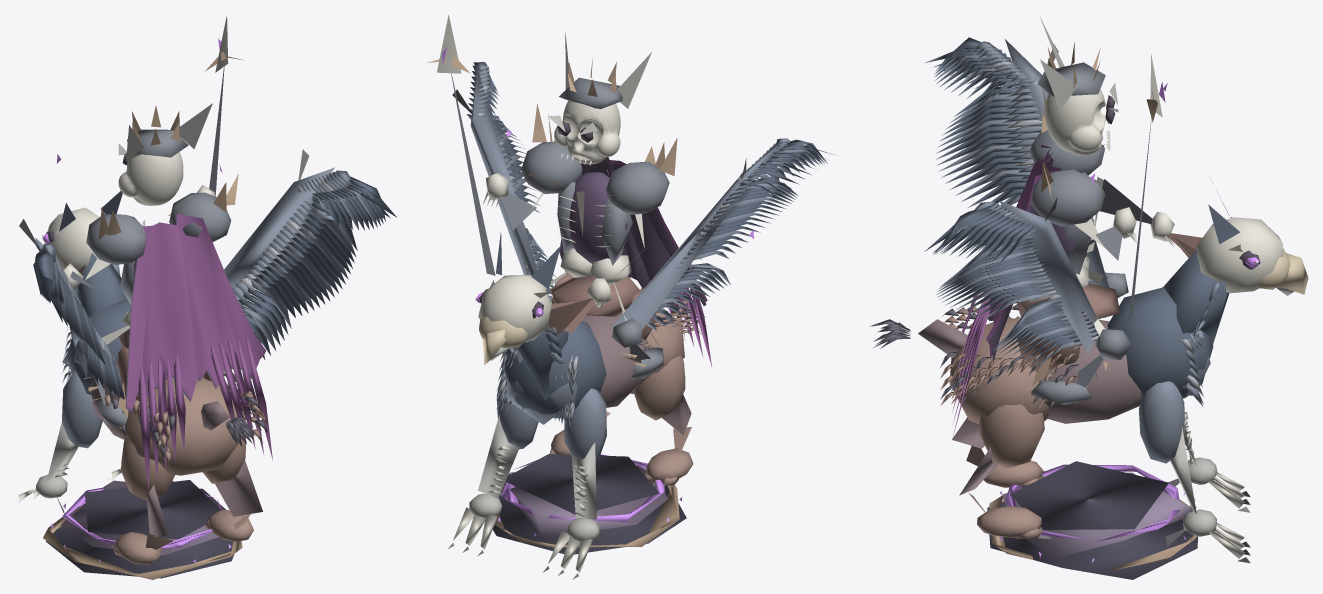
The model's file is cavalier_griffon.fbx.
The picture shows the model from 3 angles, left to right: view 1: azimuth 30°, elevation 25°; view 2: azimuth 150°, elevation 25°; view 3: azimuth 270°, elevation 25°; orthographic projection. The views are drawn at different scales.
Visible parts, largest first — view 1: RIDER_CAPE_DAMAGED_1, CHESS_PEDESTAL_CAP, GRIFFON_LION_HAUNCHES, CHESS_PEDESTAL_LOWER, WING_BONE_1, RIDER_SKULL_SCULPTED, RIDER_PAULDRON_-1, FORE_UPPER_-1, GRIFFON_HEAD_CRANIUM, RIDER_PAULDRON_1, HIND_THIGH_-1, GRIFFON_NECK_MAIN (+26 smaller); view 2: CHESS_PEDESTAL_CAP, GRIFFON_EAGLE_CHEST, WING_BONE_-1, GRIFFON_HEAD_CRANIUM, RIDER_CAPE_DAMAGED_0, RIDER_SKULL_SCULPTED, WING_BONE_1, CHESS_PEDESTAL_LOWER, RIDER_TUNIC, CHESS_PEDESTAL_BEVEL, GRIFFON_LION_TORSO, RIDER_PAULDRON_-1 (+29 smaller); view 3: CHESS_PEDESTAL_CAP, GRIFFON_EAGLE_CHEST, CHESS_PEDESTAL_LOWER, GRIFFON_LION_HAUNCHES, GRIFFON_HEAD_CRANIUM, GRIFFON_LION_TORSO, WING_BONE_1, GRIFFON_NECK_MAIN, HIND_THIGH_1, RIDER_SKULL_SCULPTED, RIDER_PAULDRON_1, FORE_UPPER_1 (+24 smaller).
Part boxes in pixels (box(x1,y1,x2,y2)): RIDER_CAPE_DAMAGED_1: box(126, 214, 266, 409); CHESS_PEDESTAL_CAP: box(85, 480, 220, 539); GRIFFON_LION_HAUNCHES: box(125, 378, 245, 475); CHESS_PEDESTAL_LOWER: box(46, 526, 234, 578); WING_BONE_1: box(224, 167, 334, 287); RIDER_SKULL_SCULPTED: box(118, 152, 183, 205); RIDER_PAULDRON_-1: box(86, 214, 146, 265); FORE_UPPER_-1: box(62, 371, 102, 448); GRIFFON_HEAD_CRANIUM: box(47, 207, 99, 270); RIDER_PAULDRON_1: box(169, 192, 231, 241); HIND_THIGH_-1: box(121, 438, 174, 500); GRIFFON_NECK_MAIN: box(78, 253, 128, 317); CHESS_PEDESTAL_CAP: box(505, 454, 659, 514); GRIFFON_EAGLE_CHEST: box(502, 321, 606, 418); WING_BONE_-1: box(612, 145, 778, 330); GRIFFON_HEAD_CRANIUM: box(478, 275, 551, 342); RIDER_CAPE_DAMAGED_0: box(559, 158, 706, 305); RIDER_SKULL_SCULPTED: box(554, 101, 620, 164); WING_BONE_1: box(470, 69, 537, 275); CHESS_PEDESTAL_LOWER: box(492, 472, 686, 554); RIDER_TUNIC: box(569, 172, 631, 263); CHESS_PEDESTAL_BEVEL: box(503, 465, 667, 538); GRIFFON_LION_TORSO: box(582, 313, 649, 407); RIDER_PAULDRON_-1: box(605, 161, 669, 214); CHESS_PEDESTAL_CAP: box(1010, 461, 1168, 529); GRIFFON_EAGLE_CHEST: box(1107, 287, 1213, 398); CHESS_PEDESTAL_LOWER: box(987, 502, 1197, 579); GRIFFON_LION_HAUNCHES: box(949, 317, 1048, 423); GRIFFON_HEAD_CRANIUM: box(1196, 217, 1283, 293); GRIFFON_LION_TORSO: box(1039, 319, 1141, 423); WING_BONE_1: box(999, 201, 1097, 354); GRIFFON_NECK_MAIN: box(1163, 249, 1229, 344); HIND_THIGH_1: box(978, 404, 1044, 468); RIDER_SKULL_SCULPTED: box(1045, 89, 1105, 155); RIDER_PAULDRON_1: box(1030, 169, 1104, 226); FORE_UPPER_1: box(1139, 381, 1184, 463).
Size of the model in its own units: 142 by 189 by 140.
